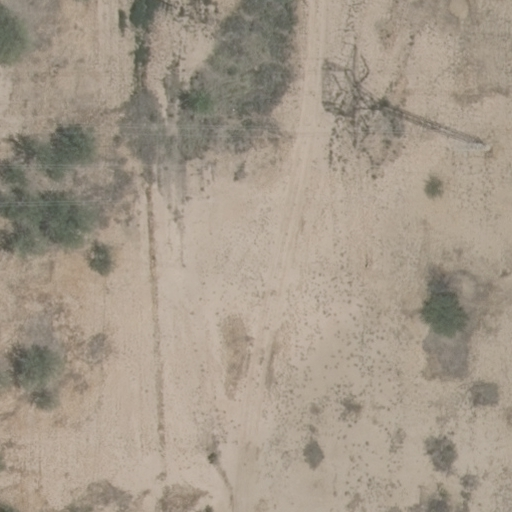TT: (322, 61, 488, 147)
